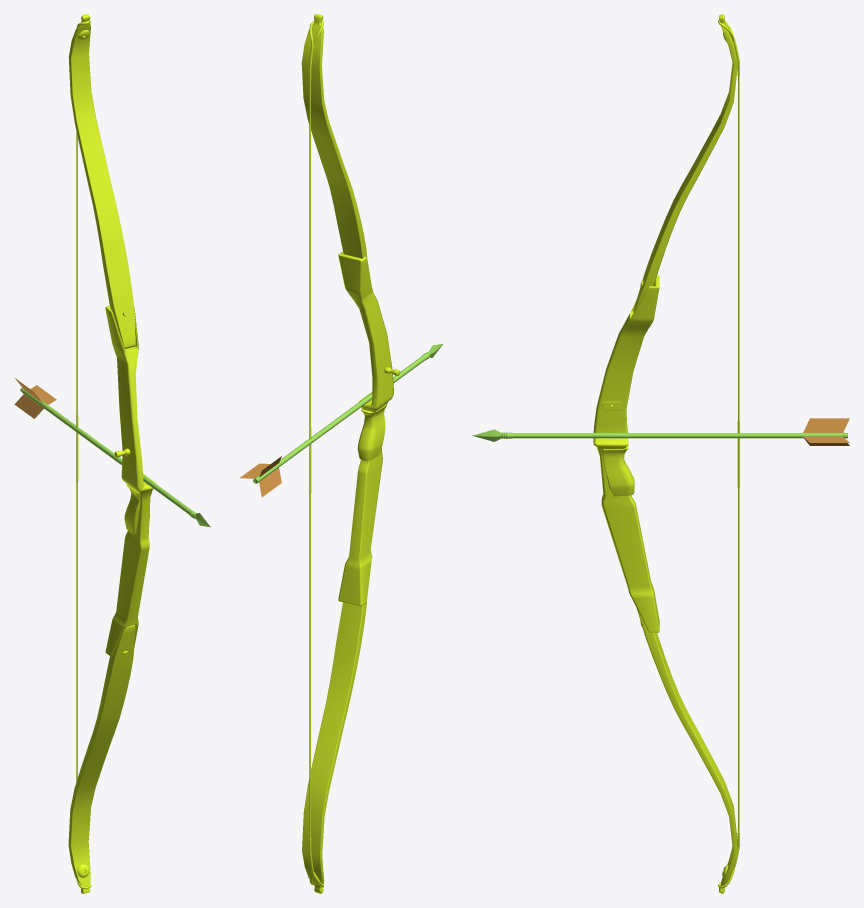
File: recurveBowArrow_01_SK.fbx
3 renders of one model, left to right at view 1: azimuth 30°, elevation 25°; view 2: azimuth 150°, elevation 25°; view 3: azimuth 270°, elevation 25°, orthographic.
Parts seen in each view (by area): view 1: recurveBow_01_SK, recurvearrow_01_SM; view 2: recurveBow_01_SK, recurvearrow_01_SM; view 3: recurveBow_01_SK, recurvearrow_01_SM.
Part boxes in pixels (x1,y1,x2,y2): recurveBow_01_SK: (68,14,155,893); recurvearrow_01_SM: (14,378,210,527); recurveBow_01_SK: (301,14,400,893); recurvearrow_01_SM: (239,343,442,497); recurveBow_01_SK: (593,14,739,893); recurvearrow_01_SM: (472,418,849,445).
Size of the model in its own units: 6.3 by 131 by 51.13.
